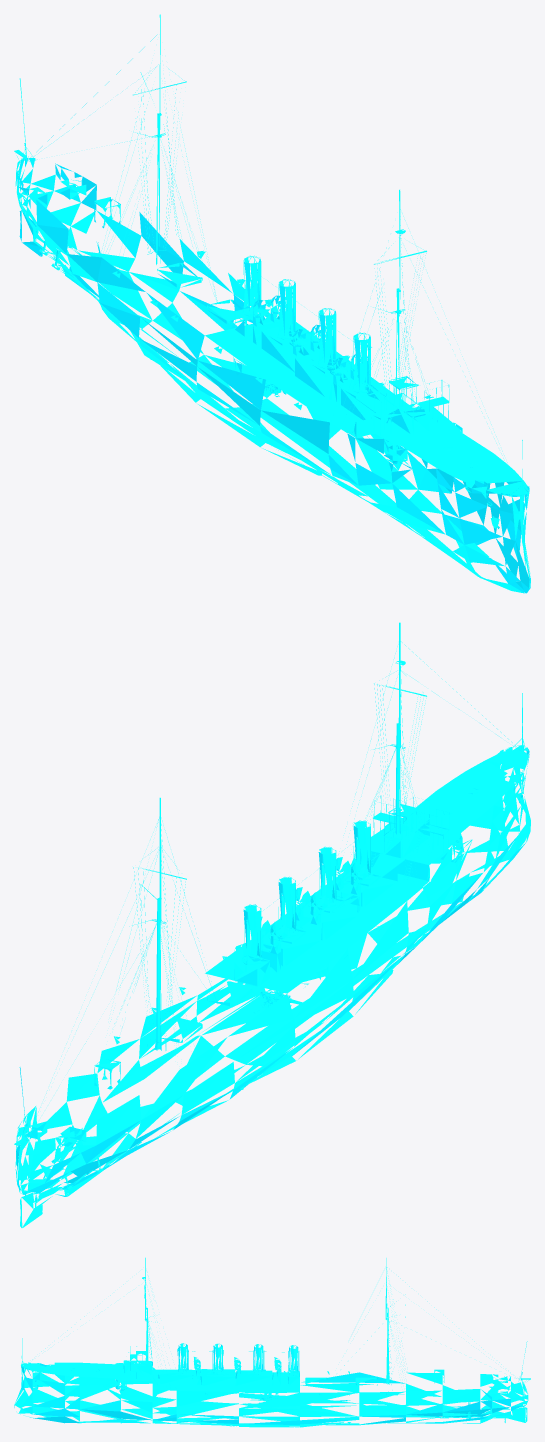
Rendered from Chester.glb.
3 views of the same model, one above another, from view 1: azimuth 30°, elevation 25°; view 2: azimuth 150°, elevation 25°; view 3: azimuth 270°, elevation 25° (orthographic). The views are drawn at different scales.
Bounding box in the file's own units: 0.9726 × 3.05 × 8.62.
